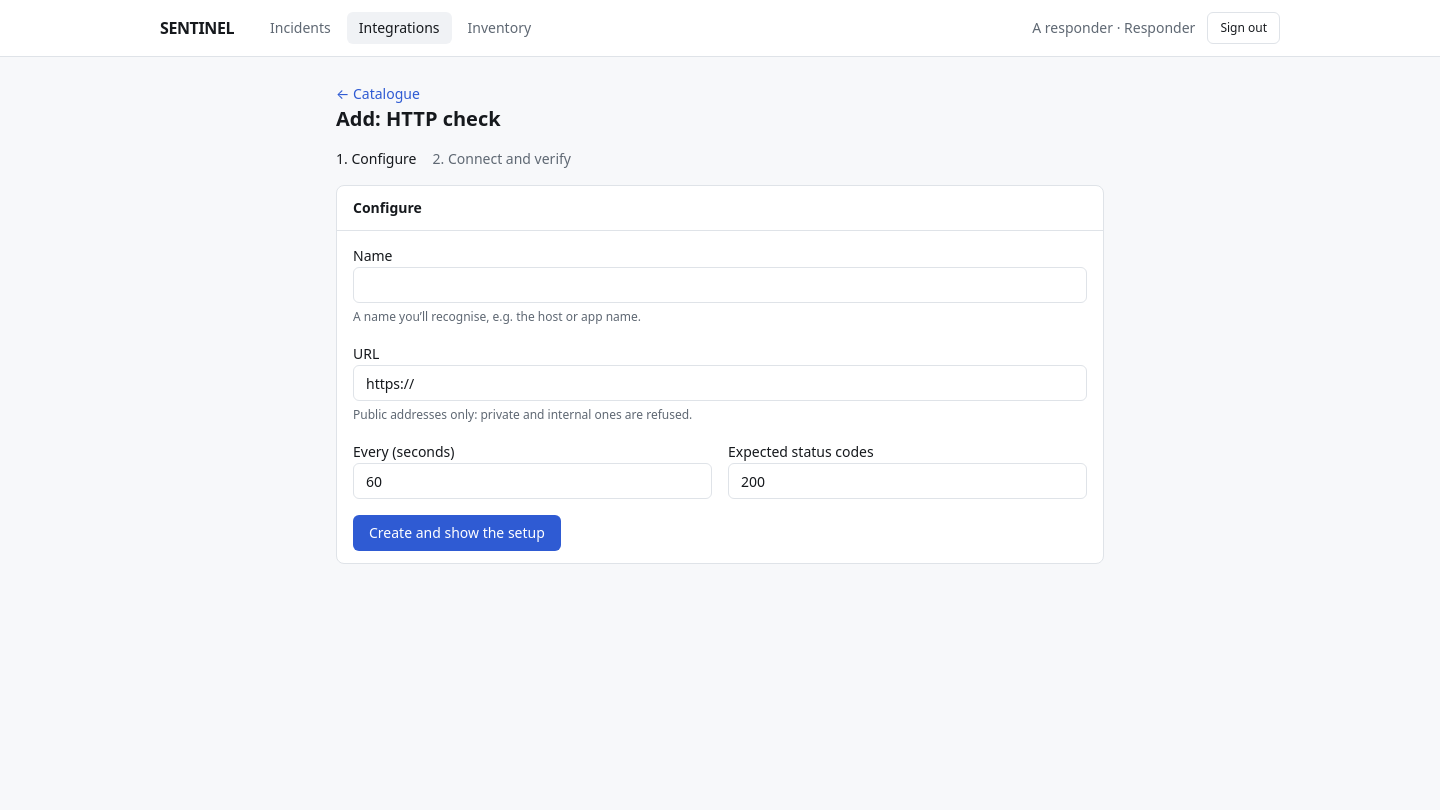
Scenario: catalogue and wizard › an HTTP check creates the integration and the check; a refused URL is explained
Step 1. Type "shop" into the field labelled "Name" → (720, 285), box [353, 267, 1087, 303]
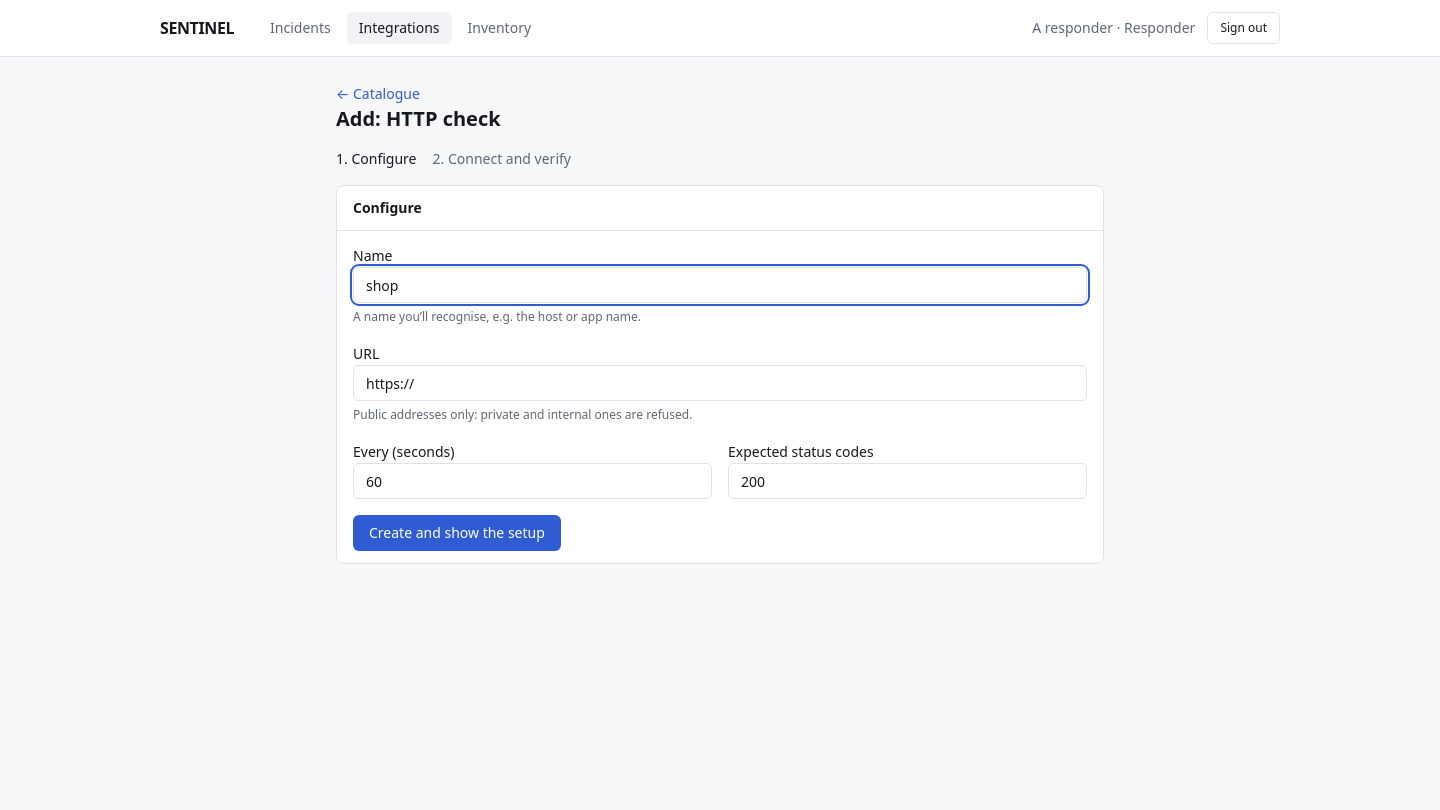
Step 2. Replace the text in the field labelled "URL" with "https://internal.example.com/health" → (720, 383), box [353, 365, 1087, 401]
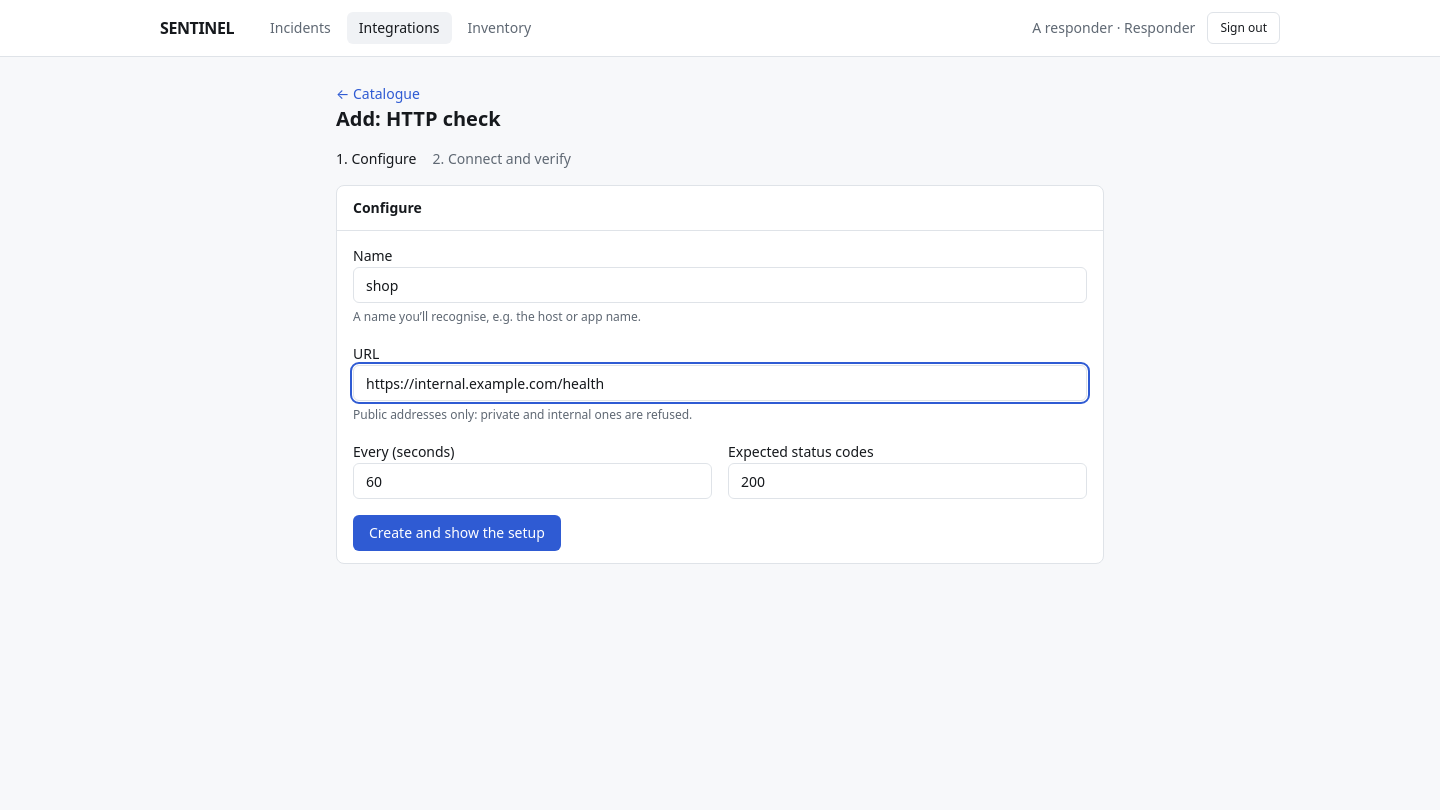
Step 3. Click the button "Create and show the setup" → (457, 533), box [353, 515, 561, 551]
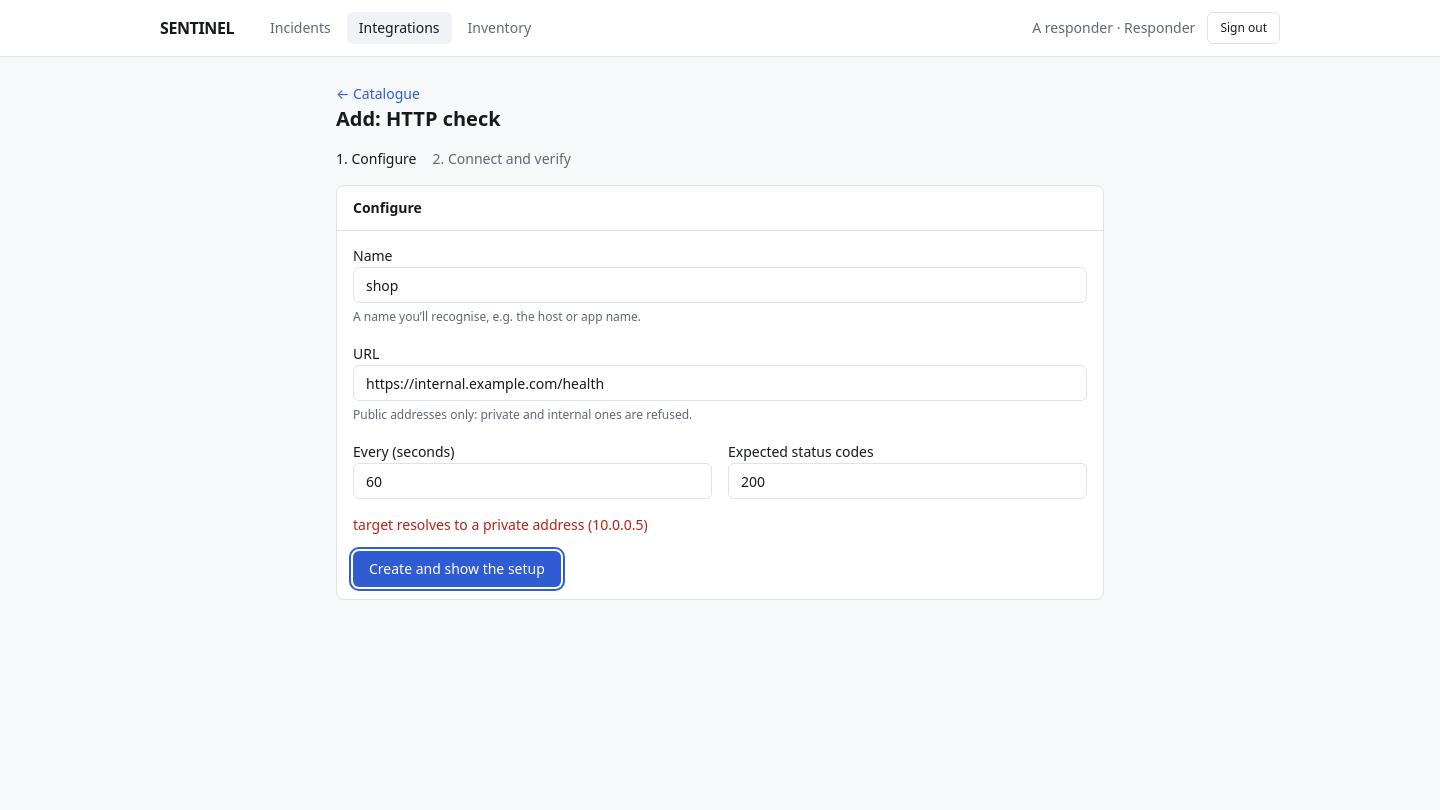
Check: the message shows "private address", box [353, 515, 648, 534]
